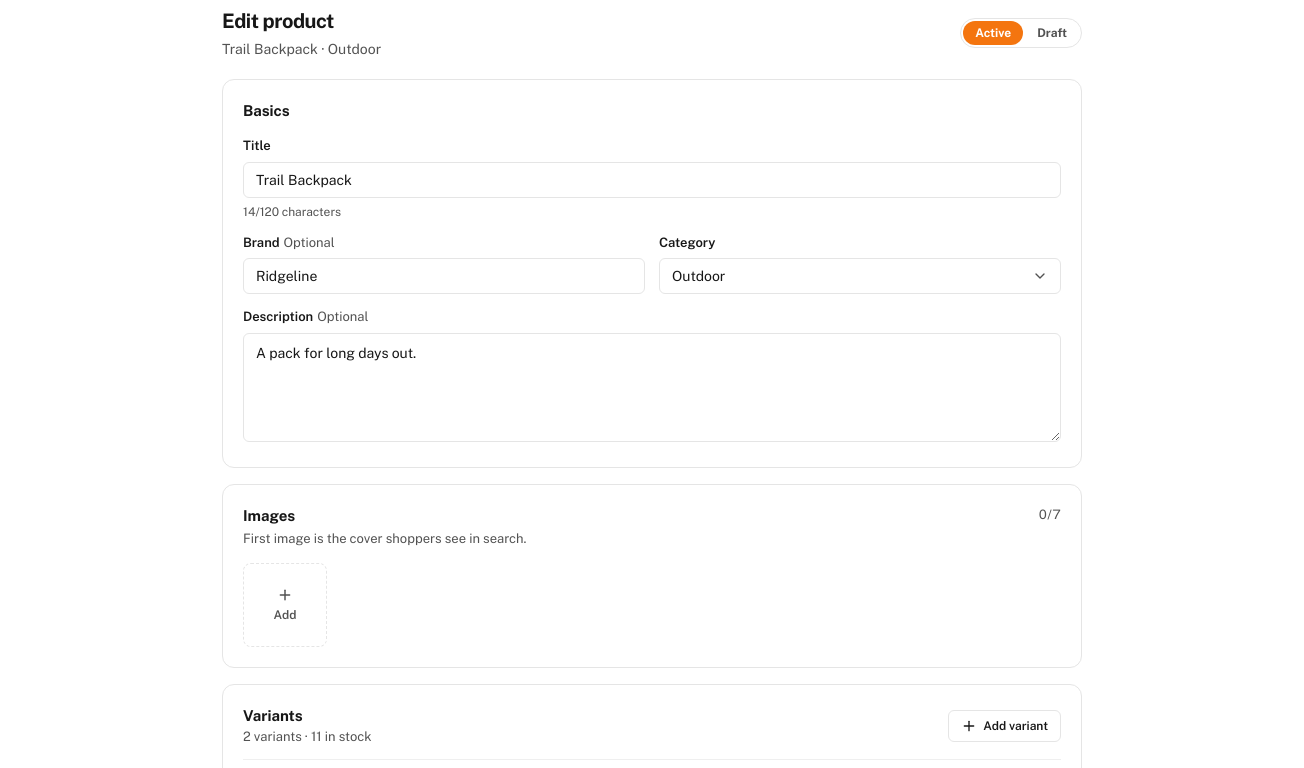
it: when part of a save fails › leaves only the failed half of the listing outstanding
Replace the text in the field labelled "Title" with "Trail Backpack 40L": coordinates (652, 180) left=243, top=162, right=1061, bottom=198
(page scrolled)
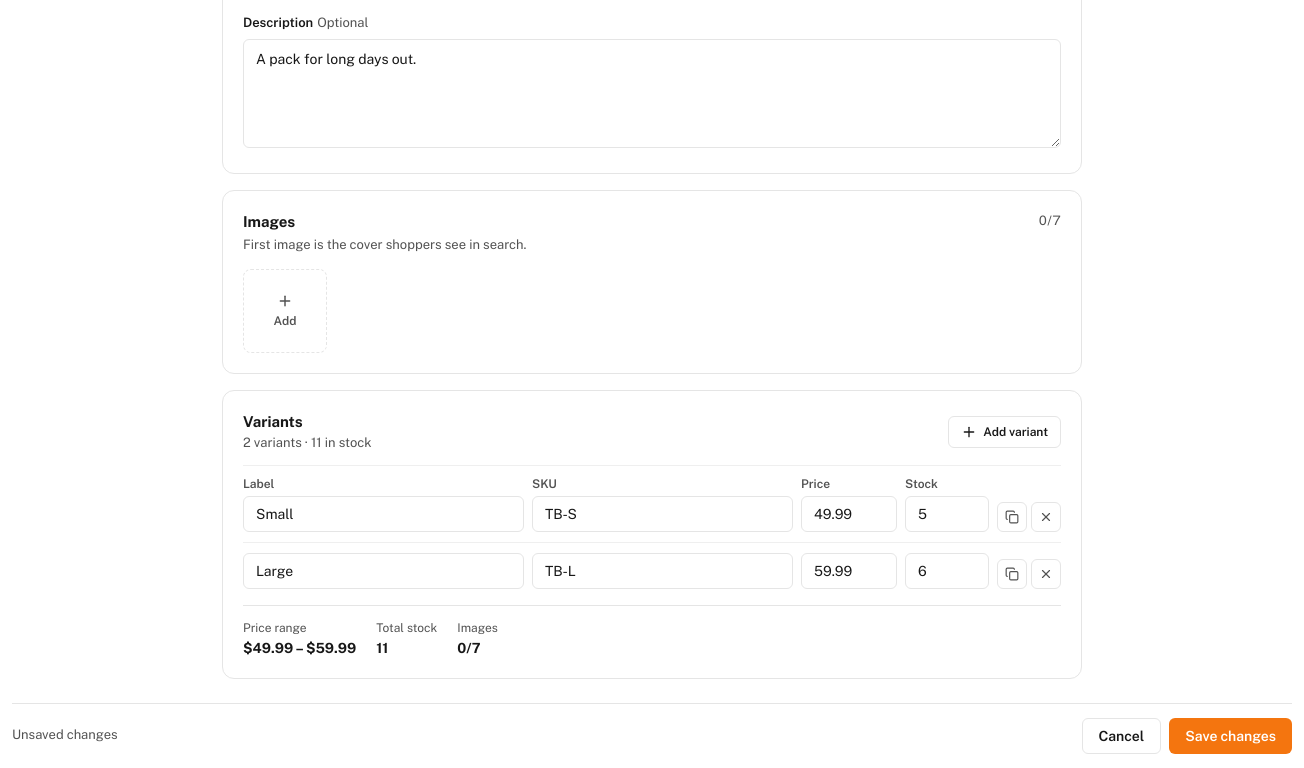
Replace the text in the number field named "Variant 1 stock quantity" with "12": coordinates (947, 514) left=905, top=496, right=989, bottom=532
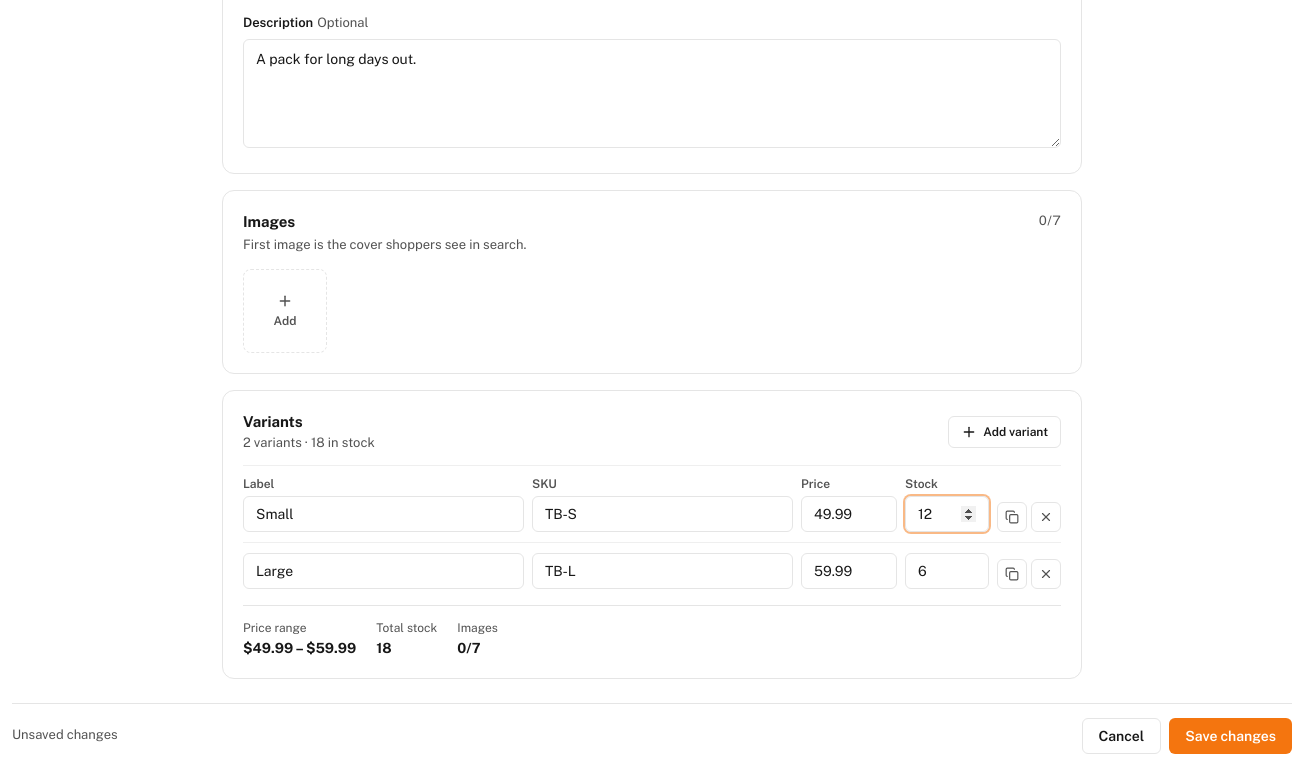
Click the button "Save changes": coordinates (1231, 736) left=1169, top=718, right=1292, bottom=754
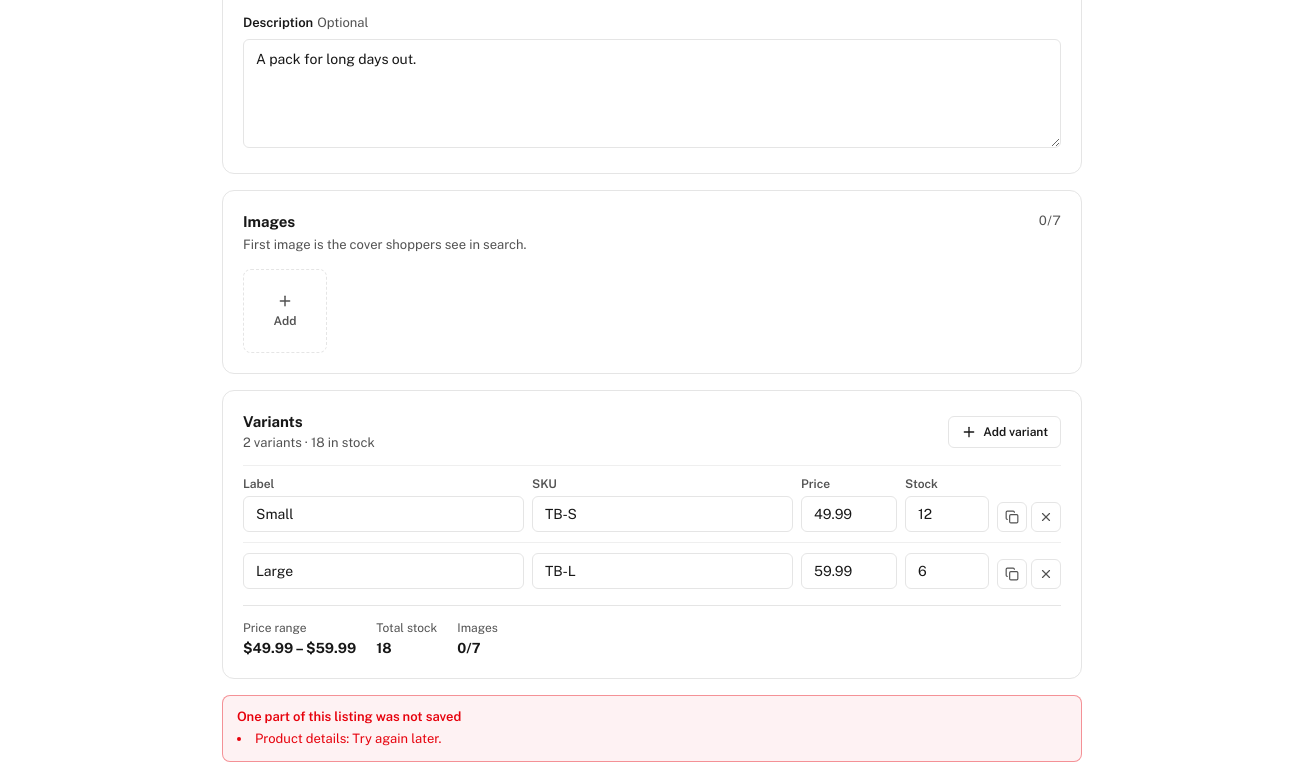
Expected: the number field named "Variant 1 stock quantity" holds "12", left=905, top=496, right=989, bottom=532
Expected: the list item "Product details: Try again later." is shown, left=255, top=731, right=441, bottom=746
